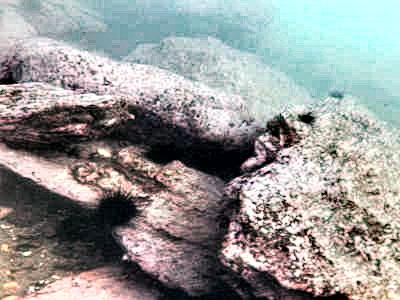urchin: (93, 187, 134, 227)
